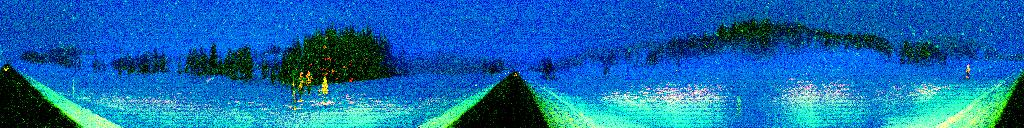pole: (72, 76, 75, 103)
